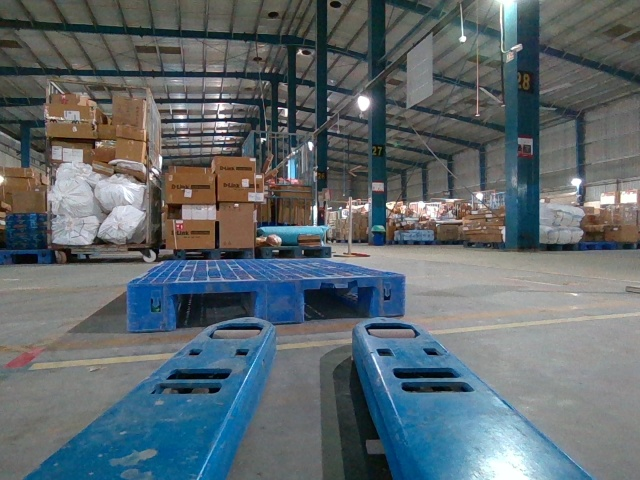block: (254, 278, 306, 326), (127, 281, 177, 330), (371, 274, 406, 316)
front: (127, 274, 405, 330)
hole pallet: (173, 290, 257, 329), (301, 283, 379, 322)
